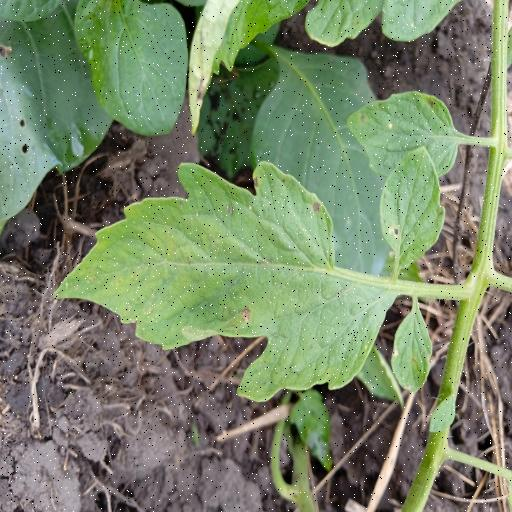Tomato_Mildiou: (51, 165, 399, 402)
